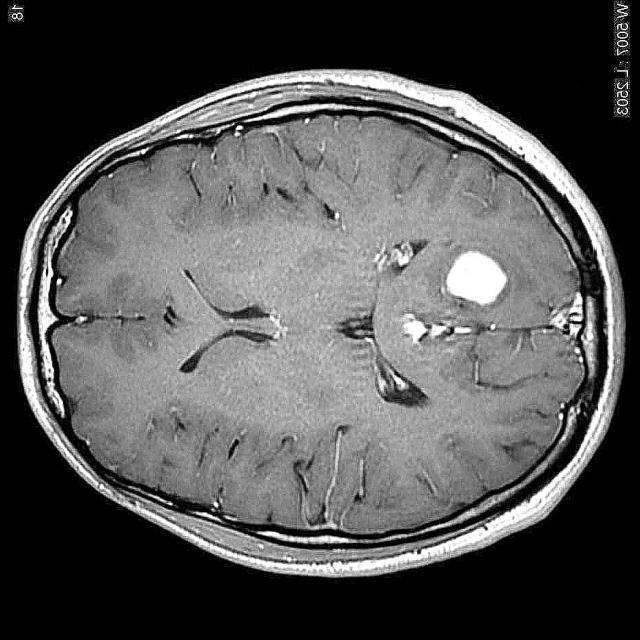tumor: (444, 251, 508, 305)
